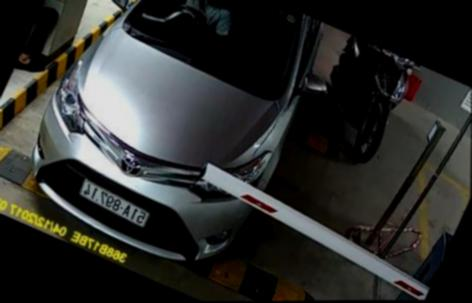License_Plate: (82, 171, 152, 237)
